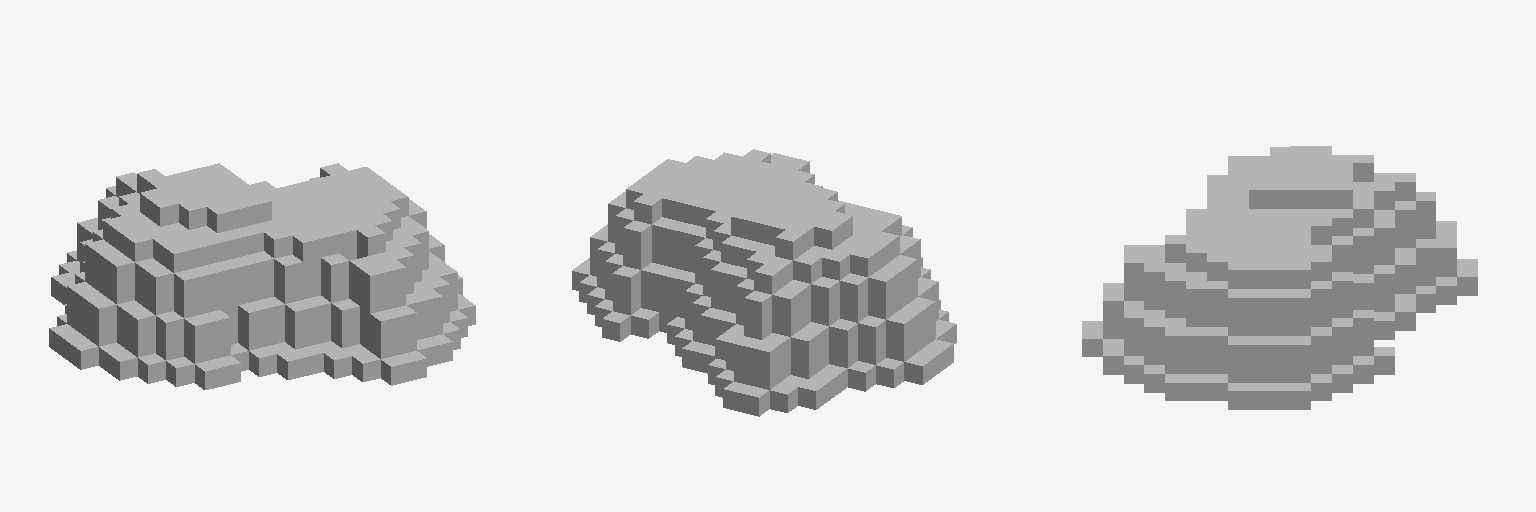
File: ore veign mark 2.obj
3 renders of one model, left to right at view 1: azimuth 30°, elevation 25°; view 2: azimuth 150°, elevation 25°; view 3: azimuth 270°, elevation 25°, orthographic.
Parts seen in each view (by area): view 1: ore veign mark 2; view 2: ore veign mark 2; view 3: ore veign mark 2.
Part boxes in pixels (x1,y1,x2,y2): ore veign mark 2: (49, 163, 475, 389); ore veign mark 2: (572, 149, 956, 416); ore veign mark 2: (1082, 146, 1477, 409).
Bounding box in the file's own units: 20 × 7 × 19.